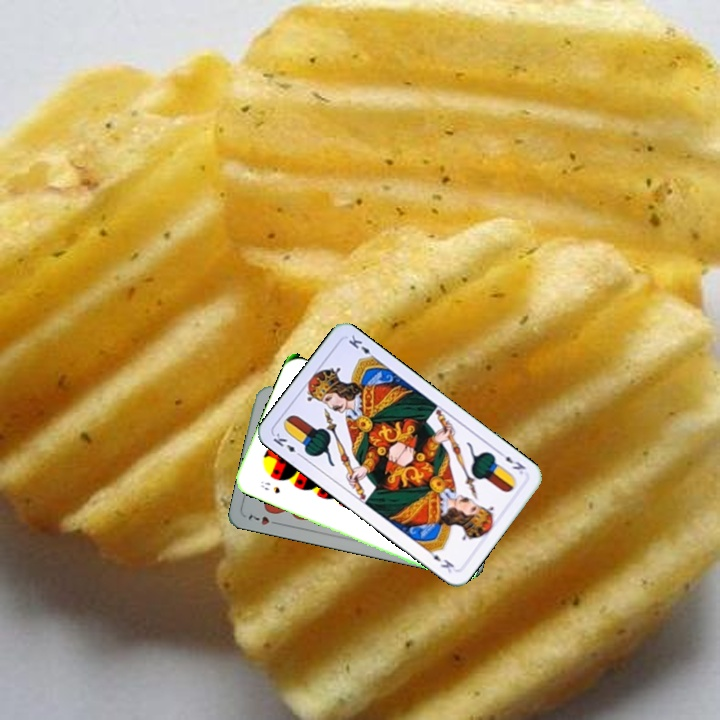EK: (269, 429, 305, 460), (494, 447, 528, 477)
H7: (243, 509, 283, 528)
S8: (256, 477, 282, 496)
